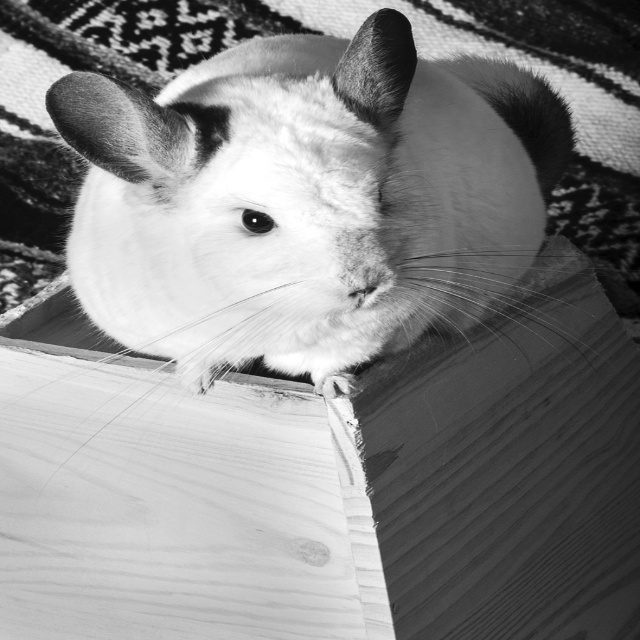Mouse: (23, 7, 569, 459)
